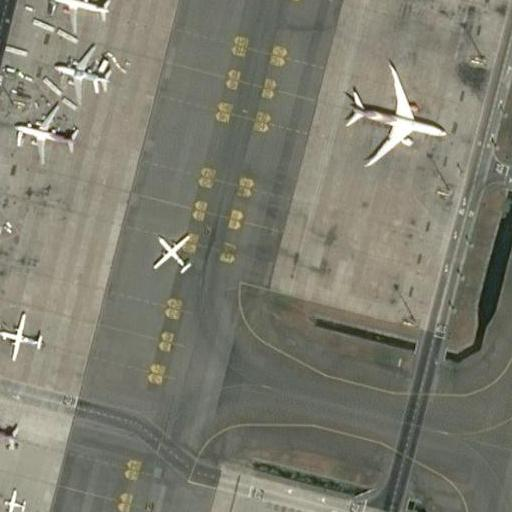Aircraft: (328, 54, 447, 174), (8, 96, 84, 161), (47, 38, 113, 104), (137, 228, 200, 279), (0, 306, 46, 366), (37, 0, 109, 36), (0, 397, 21, 461), (0, 482, 27, 512)
